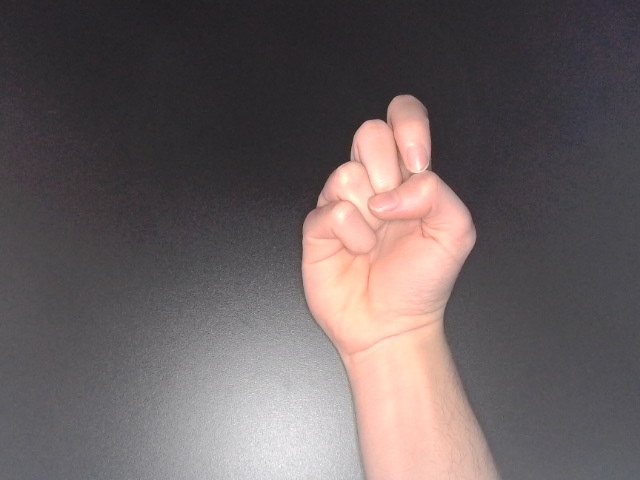s: (294, 89, 482, 365)
